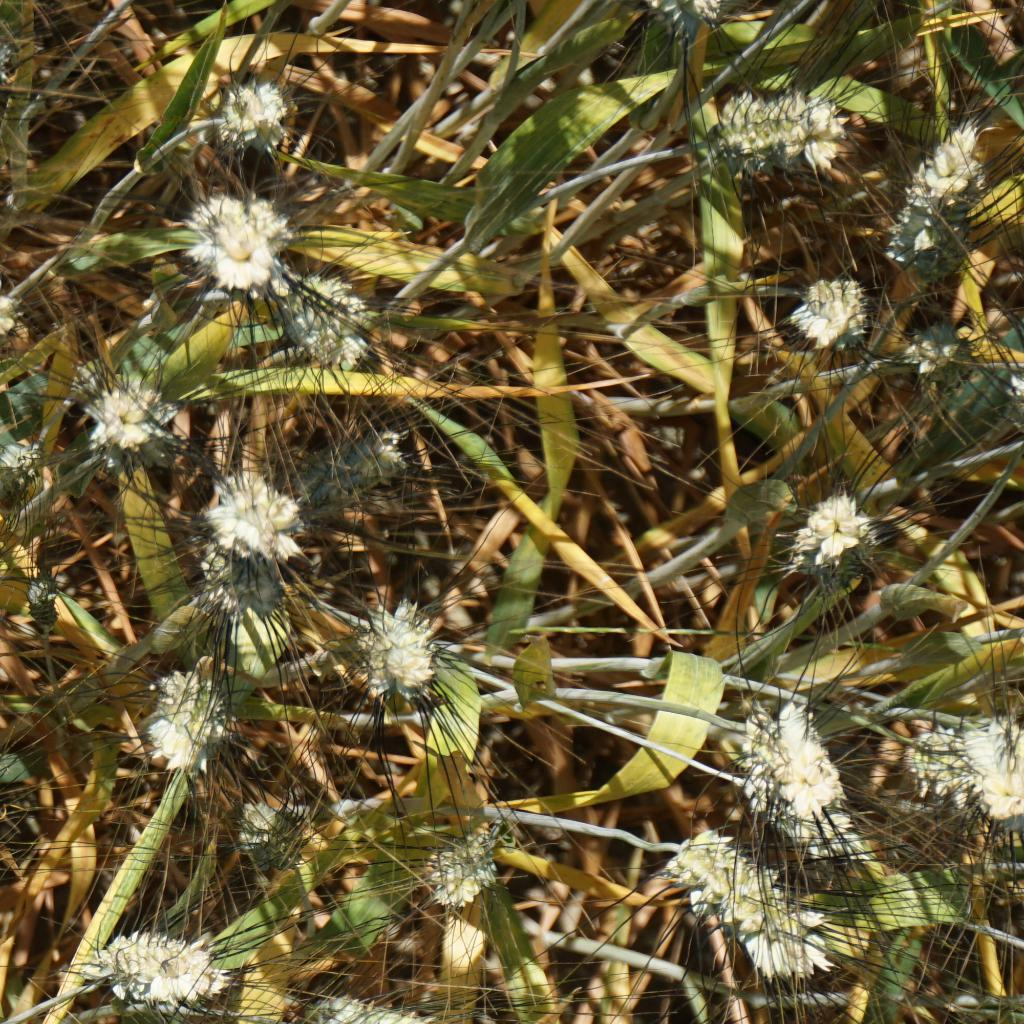0-0: (678, 824, 837, 969), (749, 674, 864, 830), (686, 86, 839, 197), (96, 915, 256, 1020), (764, 465, 883, 576), (186, 182, 288, 300), (203, 465, 309, 568), (783, 265, 879, 376), (898, 120, 994, 222), (278, 266, 372, 369), (369, 595, 450, 707), (157, 669, 233, 771), (308, 430, 416, 496), (960, 713, 1024, 817), (419, 822, 498, 906), (79, 377, 163, 454), (192, 556, 291, 619), (214, 81, 301, 147), (901, 725, 964, 798), (236, 798, 304, 865), (913, 196, 960, 276), (0, 431, 47, 496), (909, 327, 965, 376), (24, 565, 65, 629), (0, 275, 26, 349), (0, 18, 19, 104)
